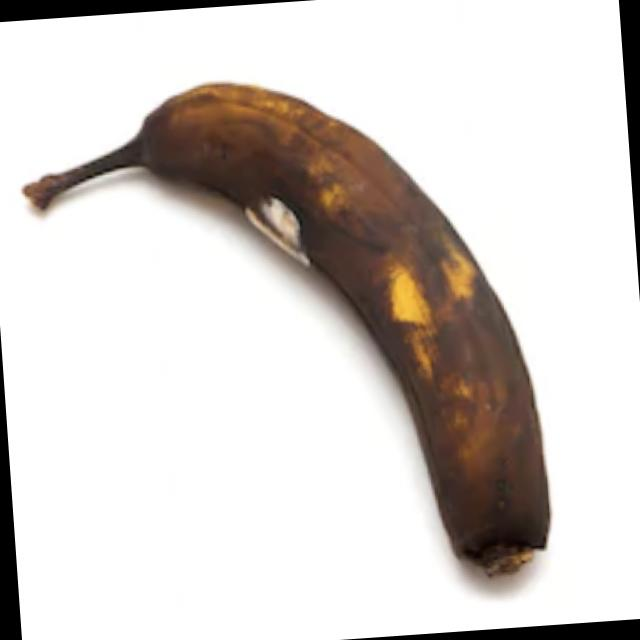rotten-banana: (124, 52, 557, 592)
